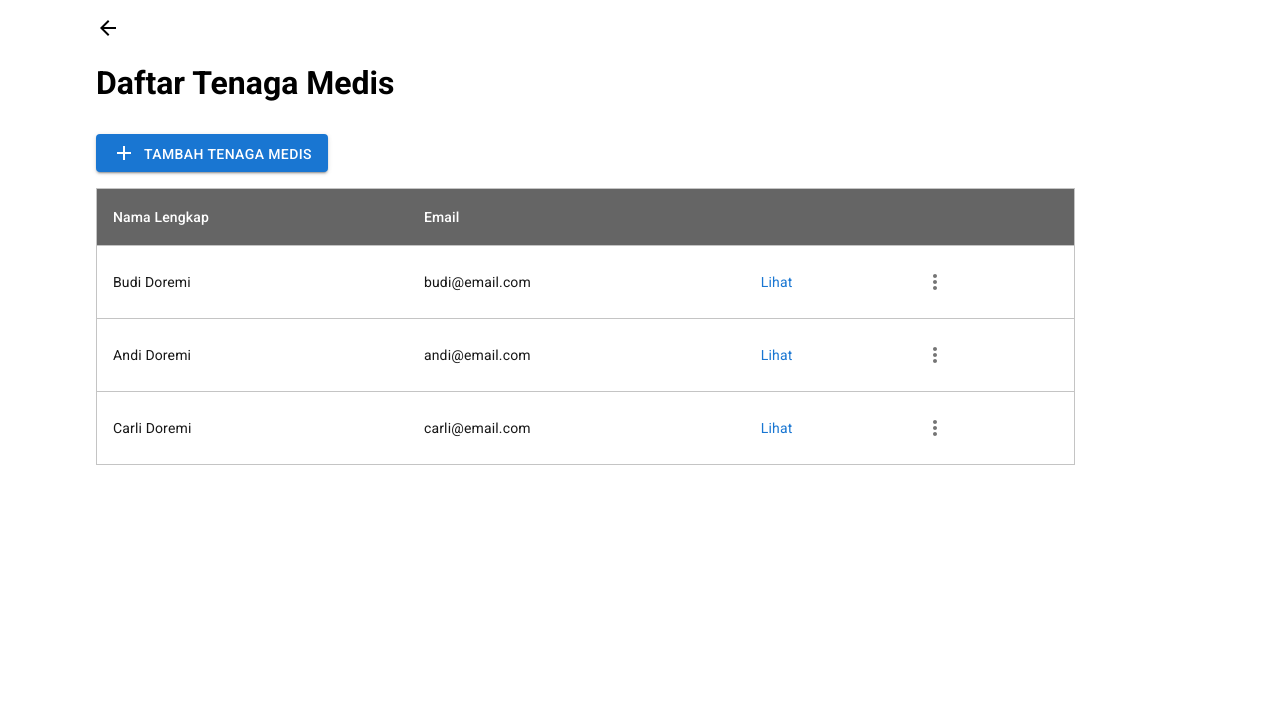
Test: DashboardTenagaMedis › TenagaMedisTable › should show deletion confirmation modal when "Hapus" is pressed
Click the button with test id "modify-dropdown-menu" in the row of "Budi Doremi": (935, 282) [915,262,955,302]
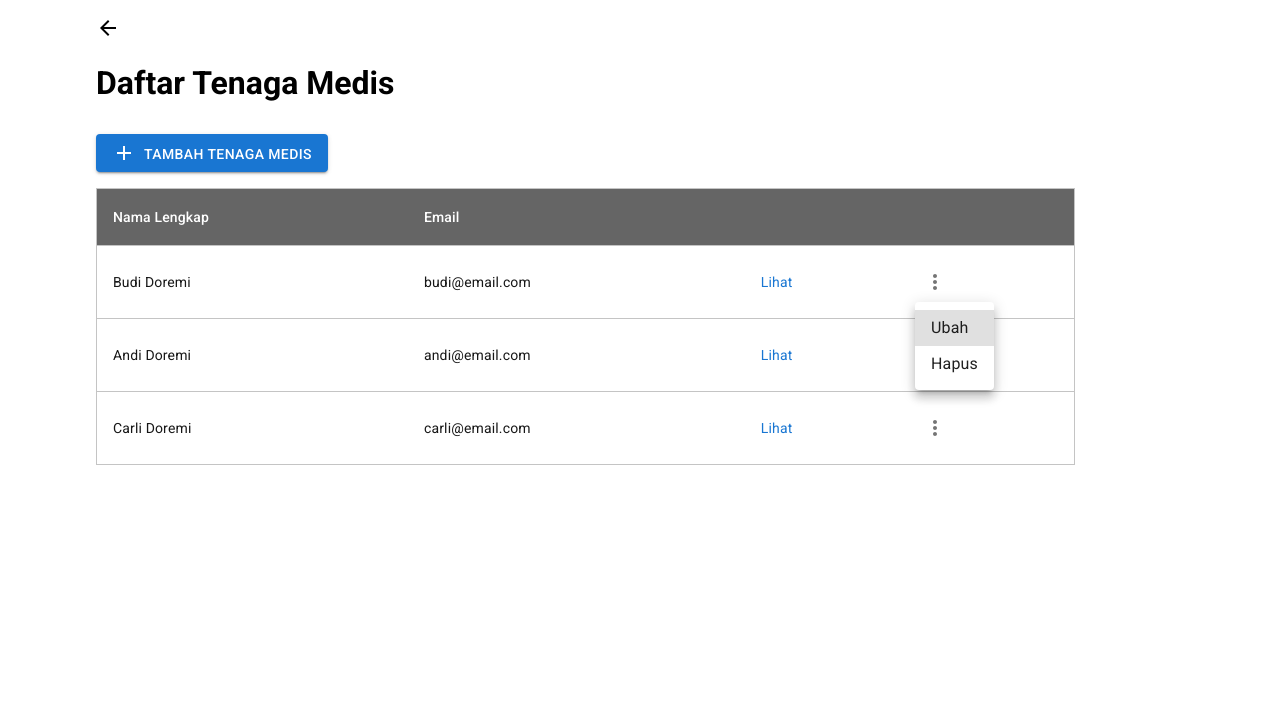
Click the menu item "Hapus": (954, 364) [931,354,978,373]
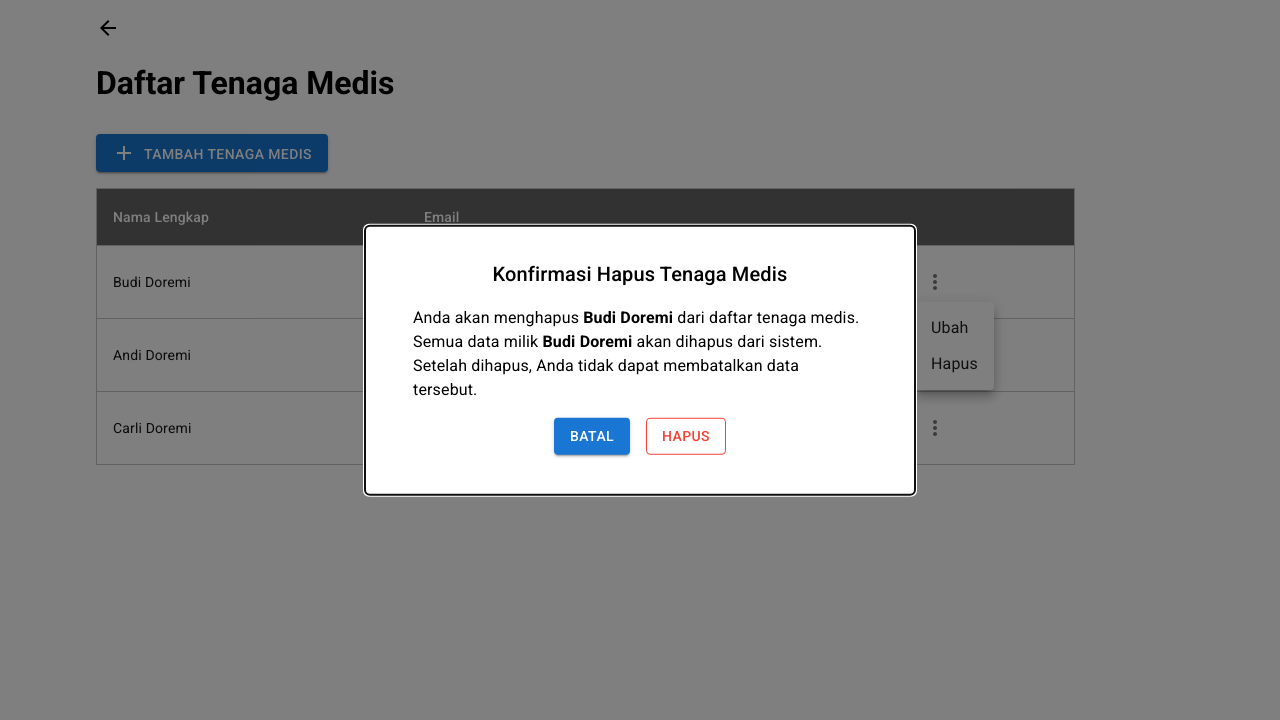
Result: the heading "Konfirmasi Hapus Tenaga Medis" is shown at [492,262,788,286]
